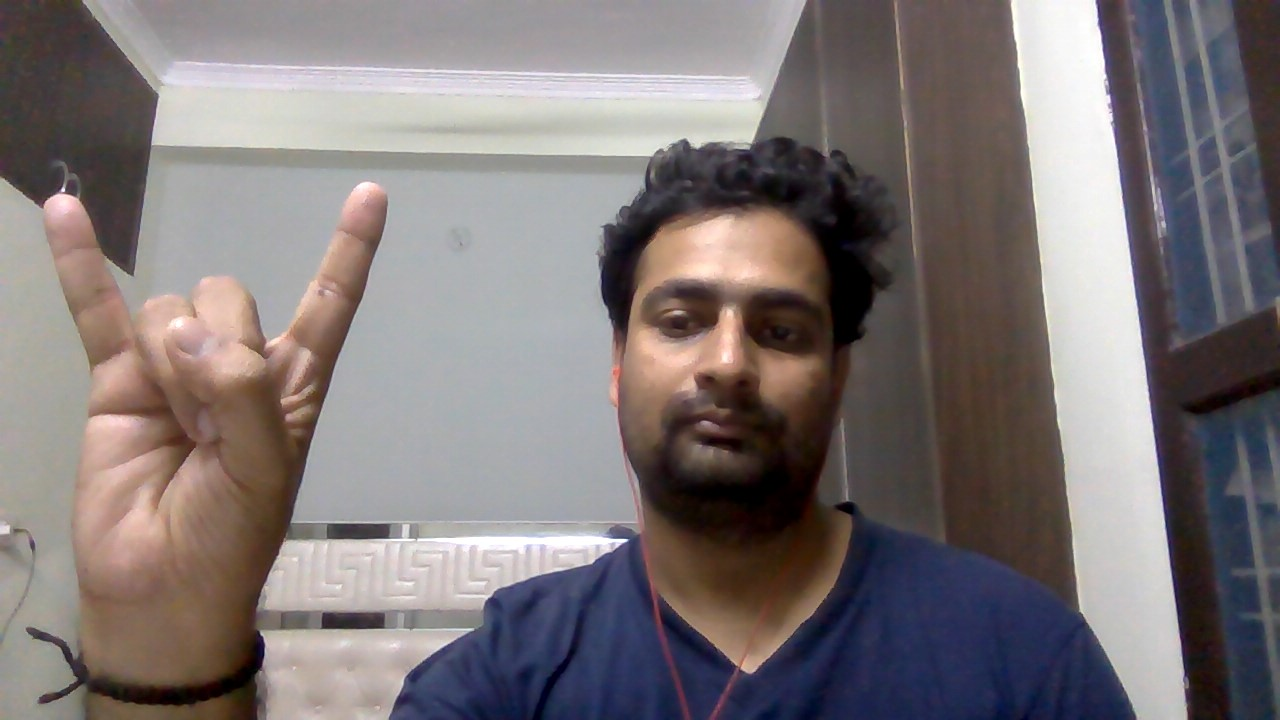Select All: (30, 177, 403, 642)
